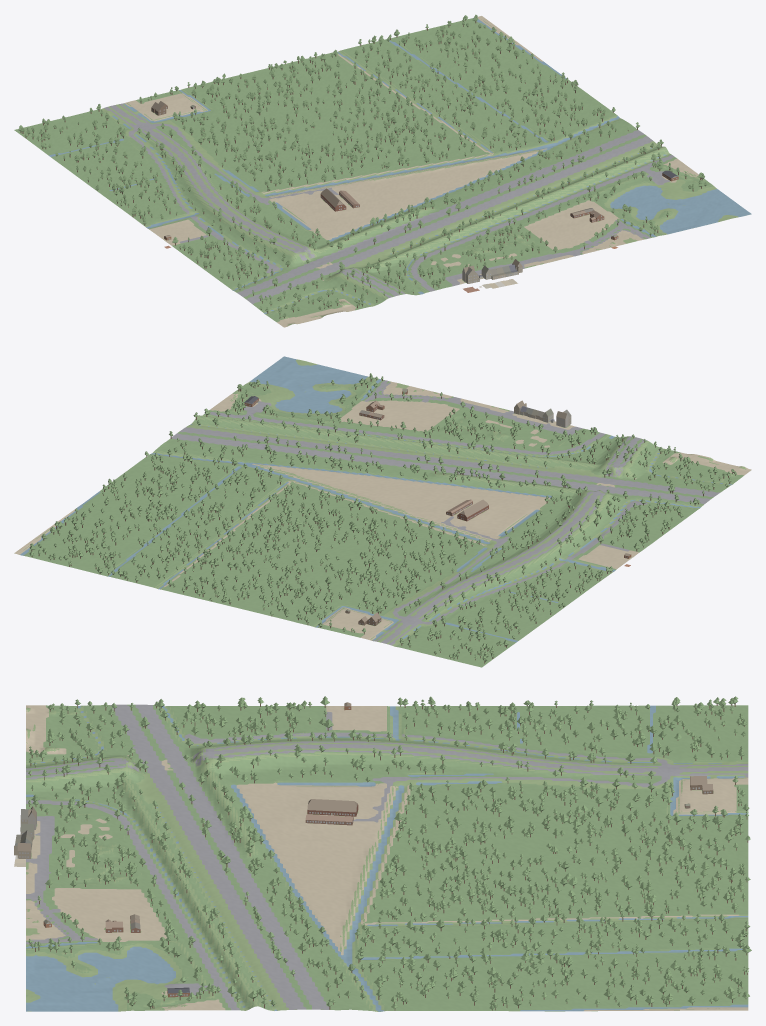
The model's file is bosven-veghel_x332_y810.glb.
3 renders of one model, top to bottom at view 1: azimuth 30°, elevation 25°; view 2: azimuth 150°, elevation 25°; view 3: azimuth 270°, elevation 25°, orthographic. The views are drawn at different scales.
Parts seen in each view (by area): view 1: class:green, class:tree, class:grass, class:sand, class:road, class:water, class:trunk, class:wall, class:roof; view 2: class:green, class:tree, class:sand, class:grass, class:road, class:water, class:trunk, class:wall, class:roof; view 3: class:green, class:tree, class:sand, class:grass, class:road, class:water, class:trunk, class:roof, class:wall.
Part boxes in pixels (<box>): class:green: <box>14,18,728,322</box>; class:tree: <box>18,14,707,317</box>; class:grass: <box>100,19,738,325</box>; class:sand: <box>124,16,698,327</box>; class:road: <box>104,103,674,304</box>; class:water: <box>49,18,751,313</box>; class:trunk: <box>20,20,705,318</box>; class:wall: <box>151,104,678,292</box>; class:roof: <box>151,101,677,279</box>; class:green: <box>23,361,743,667</box>; class:tree: <box>29,373,736,661</box>; class:sand: <box>14,381,751,640</box>; class:grass: <box>23,359,746,646</box>; class:road: <box>171,380,720,645</box>; class:water: <box>20,356,731,642</box>; class:trunk: <box>31,379,735,663</box>; class:wall: <box>244,389,631,625</box>; class:roof: <box>244,388,629,622</box>; class:green: <box>26,704,748,1011</box>; class:tree: <box>28,696,751,1009</box>; class:sand: <box>26,705,748,1011</box>; class:grass: <box>26,705,748,1011</box>; class:road: <box>26,704,748,1010</box>; class:water: <box>26,705,748,1011</box>; class:trunk: <box>29,703,748,1010</box>; class:roof: <box>15,702,713,993</box>; class:wall: <box>14,705,713,997</box>.
Size of the model in its own units: 504 by 23.2 by 511.
